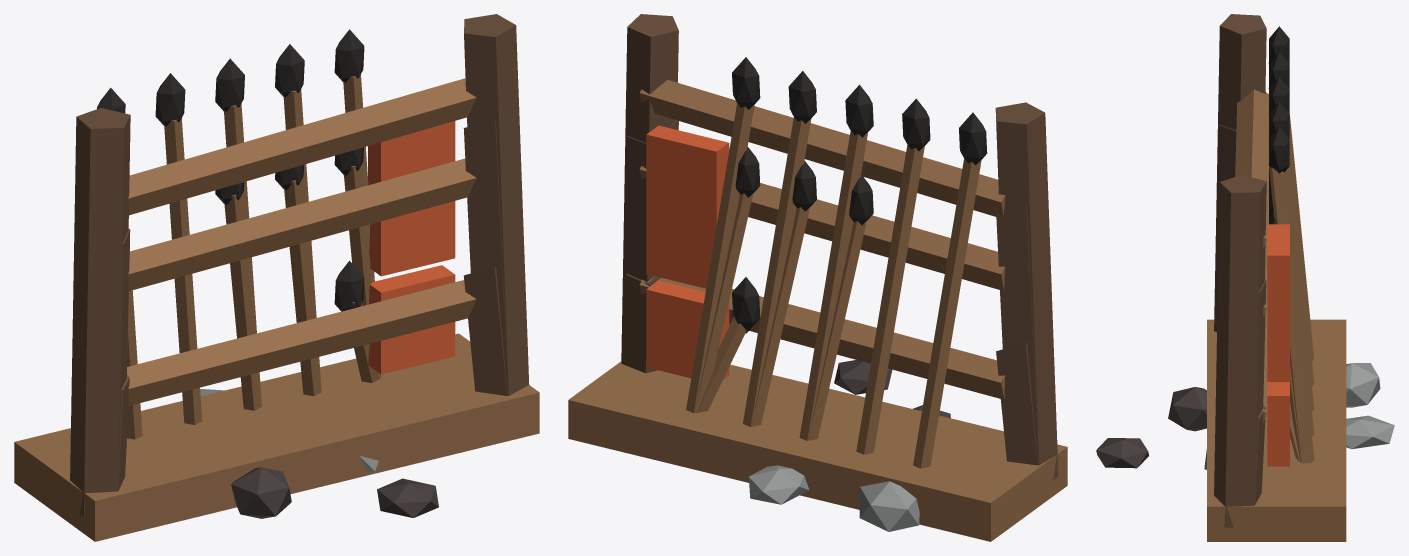
Rendered from weapon_rack_stages.glb.
The picture shows the model from 3 angles, left to right: view 1: azimuth 30°, elevation 25°; view 2: azimuth 150°, elevation 25°; view 3: azimuth 270°, elevation 25°; orthographic projection. The views are drawn at different scales.
Visible parts, largest first — view 1: Stage_Intact, Stage_Damaged, Stage_Critical; view 2: Stage_Intact, Stage_Damaged, Stage_Critical; view 3: Stage_Intact, Stage_Damaged, Stage_Critical.
Boxes of the visible parts, x1,y1,x2,y2 form: Stage_Intact: (14,14,539,541); Stage_Damaged: (118,120,508,518); Stage_Critical: (118,260,507,490); Stage_Intact: (568,14,1067,541); Stage_Damaged: (621,120,1038,531); Stage_Critical: (622,274,1037,465); Stage_Intact: (1207,14,1346,541); Stage_Damaged: (1096,125,1394,503); Stage_Critical: (1214,266,1300,504).
Size of what is drawn, in the model's own units: 2.17 by 1.95 by 1.46.
